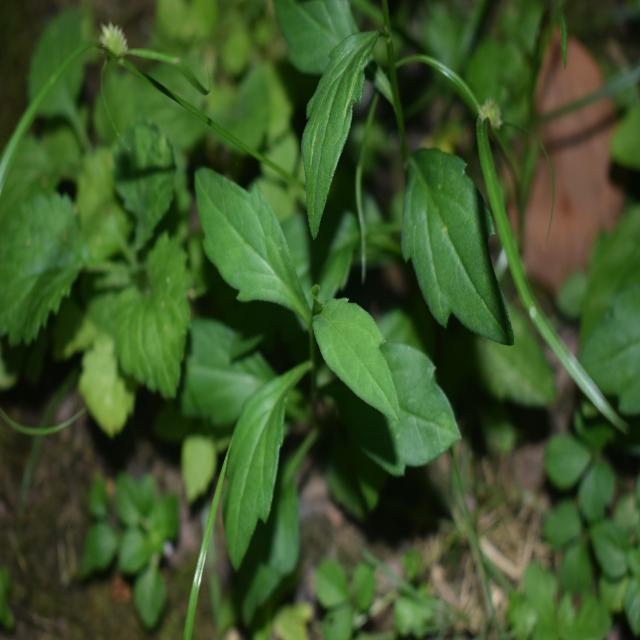Indian aster: (198, 169, 433, 556)
